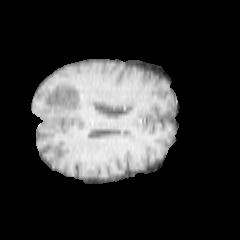glioma: (40, 81, 107, 124)
